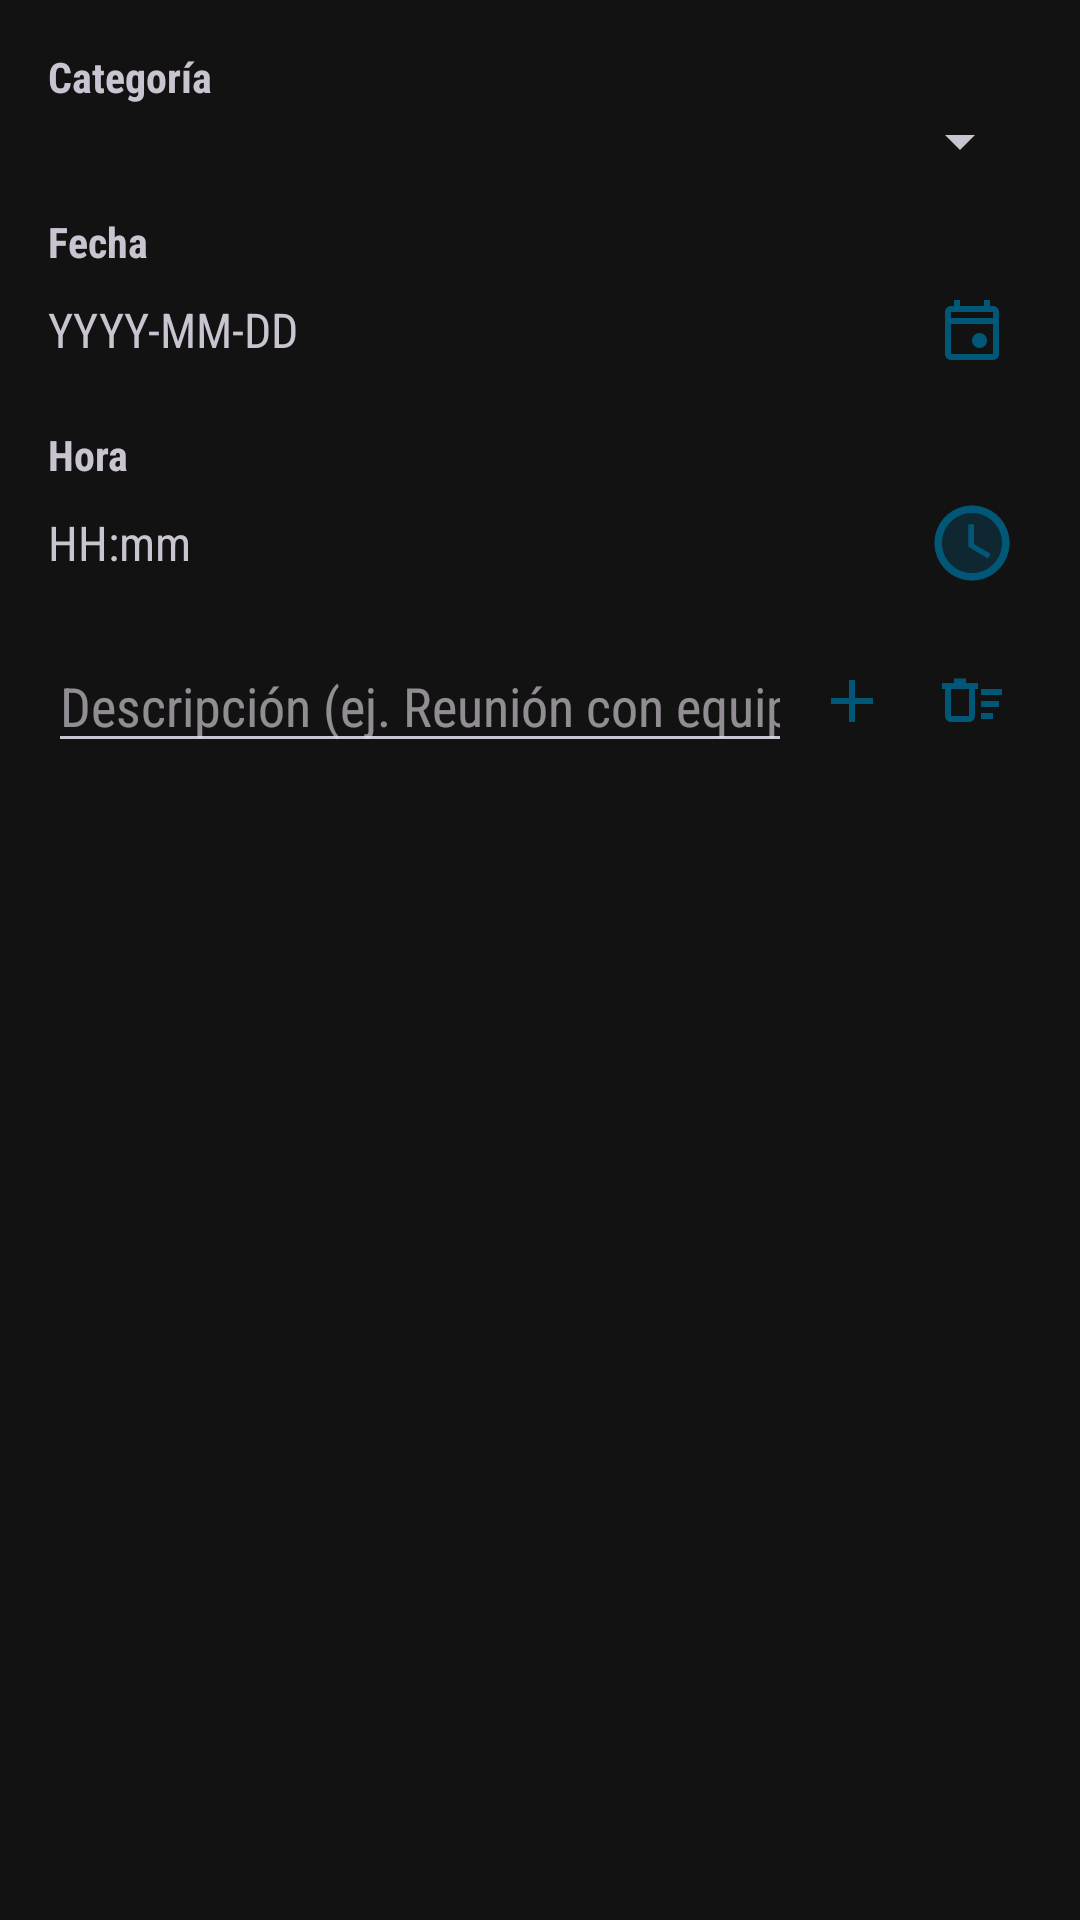

Point at icon controls on the screen. Image size 1080w x 1920h, points as point (x, y).
Agregar elemento: point (852, 701)
Elegir fecha: point (972, 330)
Elegir hora: point (972, 543)
Limpiar lista: point (972, 700)
